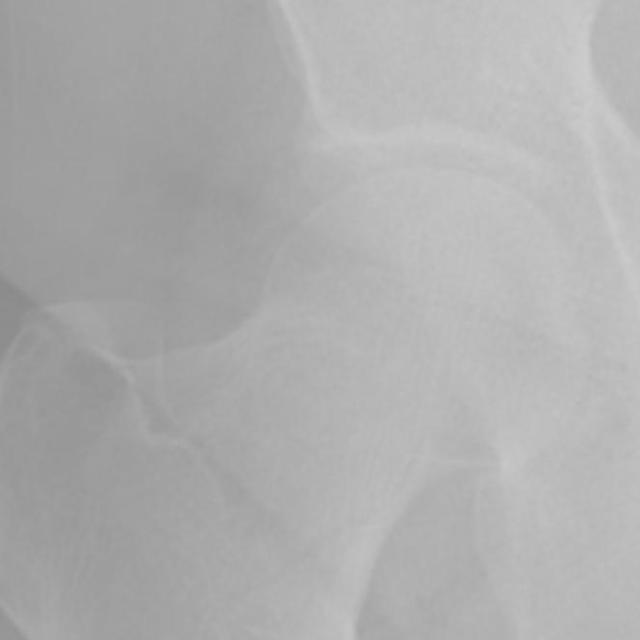Fitted_femural_head: (322, 167, 432, 322)
